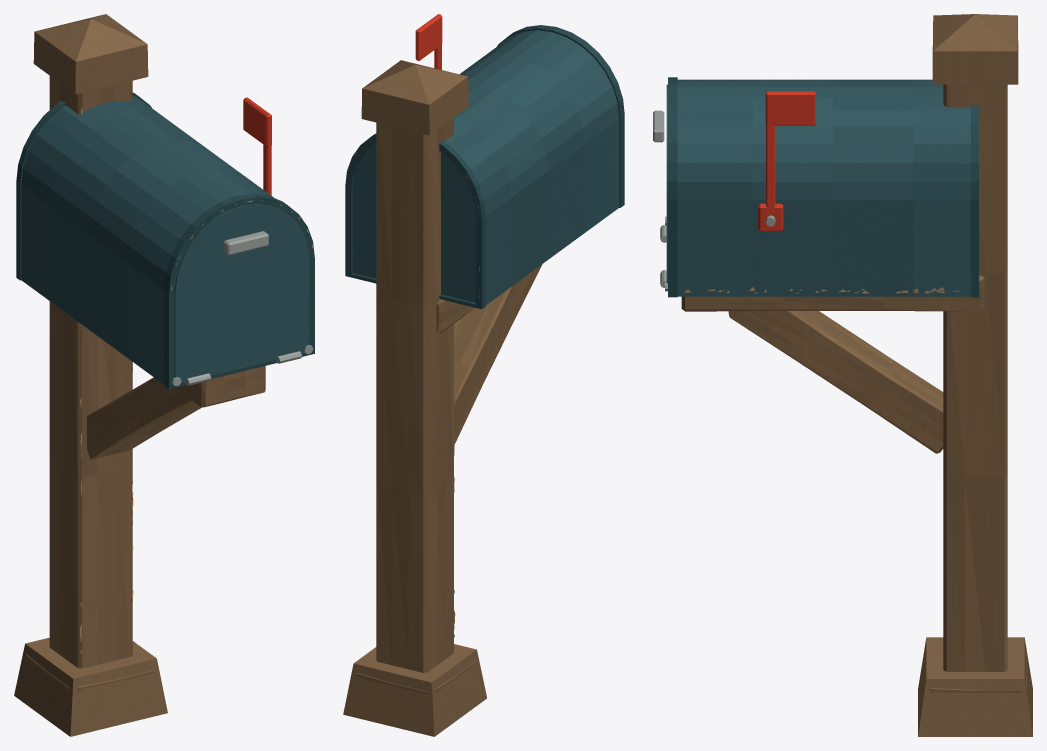
Rendered from mailbox.fbx.
3 views of the same model, side by side, from view 1: azimuth 30°, elevation 25°; view 2: azimuth 150°, elevation 25°; view 3: azimuth 270°, elevation 25° (orthographic). The views are drawn at different scales.
Parts seen in each view (by area): view 1: EXPORT_mailbox; view 2: EXPORT_mailbox; view 3: EXPORT_mailbox.
Boxes of the visible parts, bbox=[...] form: EXPORT_mailbox: bbox=[14, 14, 314, 736]; EXPORT_mailbox: bbox=[343, 14, 624, 736]; EXPORT_mailbox: bbox=[653, 14, 1032, 736].
Bounding box in the file's own units: 0.417 × 1.73 × 0.8535.
1 material, 1 textured.
